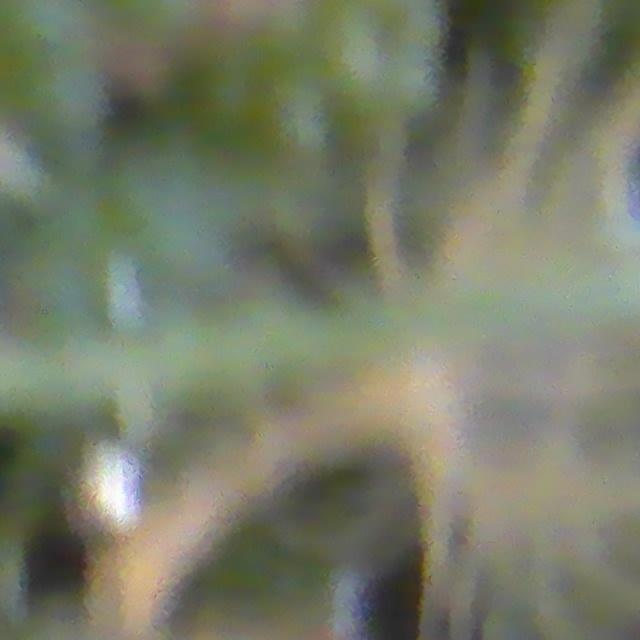SeaGrape: (29, 57, 107, 135), (3, 0, 98, 56)
